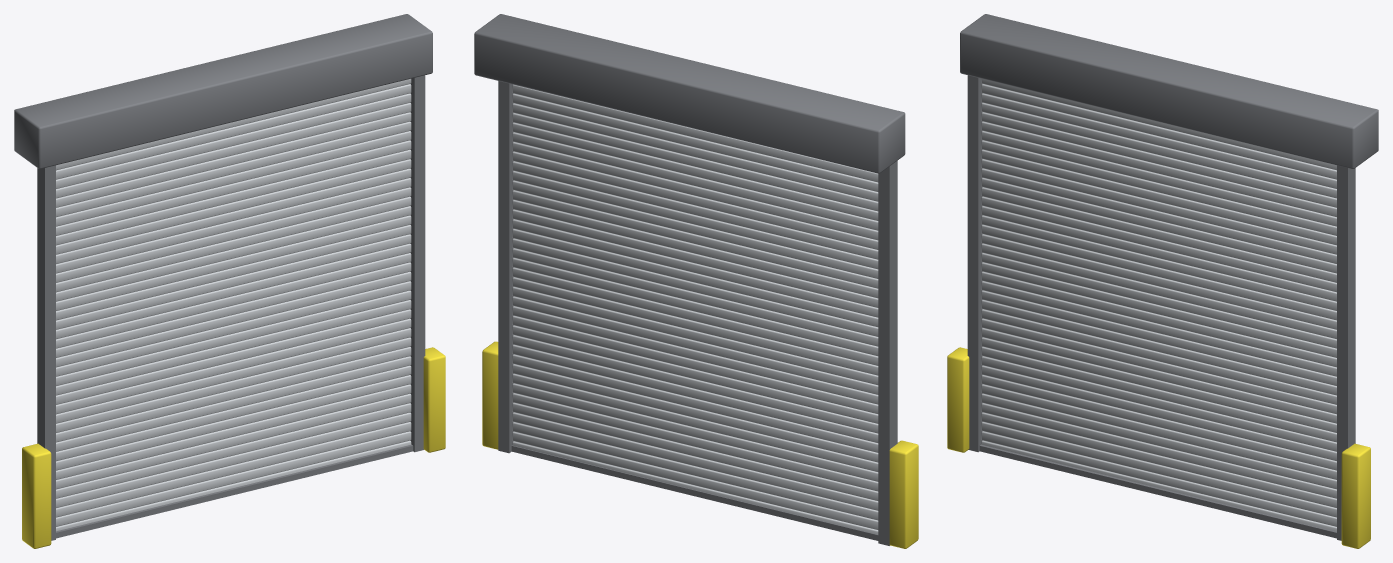
Rendered from roller_door.glb.
The picture shows the model from 3 angles, left to right: view 1: azimuth 30°, elevation 25°; view 2: azimuth 150°, elevation 25°; view 3: azimuth 330°, elevation 25°; orthographic projection. The views are drawn at different scales.
Visible parts, largest first — view 1: Cube.040, Cube.041, Cube.043, Cube.003, Cube.012, Cube.029, Cube.001, Cube.008, Cube.014, Cube.018, Cube.021, Cube.025 (+34 smaller); view 2: Cube.040, Cube.041, Cube.043, Cube.021, Cube.023, Cube.012, Cube.015, Cube.018, Cube.024, Cube.027, Cube.008, Cube.026 (+32 smaller); view 3: Cube.040, Cube.043, Cube.041, Cube.003, Cube.012, Cube.029, Cube.001, Cube.008, Cube.014, Cube.018, Cube.021, Cube.025 (+34 smaller).
Part boxes in pixels (x1,y1,x2,y2): Cube.040: (14, 14, 432, 168); Cube.041: (37, 165, 55, 540); Cube.043: (410, 75, 425, 452); Cube.003: (56, 412, 411, 507); Cube.012: (56, 328, 411, 423); Cube.029: (56, 168, 411, 263); Cube.001: (56, 431, 411, 526); Cube.008: (56, 365, 411, 461); Cube.014: (56, 309, 411, 404); Cube.018: (56, 271, 411, 367); Cube.021: (56, 243, 411, 339); Cube.025: (56, 206, 411, 301); Cube.040: (474, 14, 905, 173); Cube.041: (878, 161, 897, 545); Cube.043: (498, 81, 513, 453); Cube.021: (512, 238, 878, 336); Cube.023: (512, 219, 878, 317); Cube.012: (512, 325, 878, 423); Cube.015: (512, 296, 878, 394); Cube.018: (512, 267, 878, 365); Cube.024: (512, 209, 878, 307); Cube.027: (512, 180, 878, 278); Cube.008: (512, 364, 878, 462); Cube.026: (512, 190, 878, 288); Cube.040: (960, 14, 1378, 168); Cube.043: (1337, 165, 1355, 540); Cube.041: (967, 75, 982, 452); Cube.003: (981, 412, 1336, 507); Cube.012: (981, 328, 1336, 423); Cube.029: (981, 168, 1336, 263); Cube.001: (981, 431, 1336, 526); Cube.008: (981, 365, 1336, 461); Cube.014: (981, 309, 1336, 404); Cube.018: (981, 271, 1336, 367); Cube.021: (981, 243, 1336, 339); Cube.025: (981, 206, 1336, 301).
Size of the model in its own units: 4.6 by 4.44 by 0.575.
